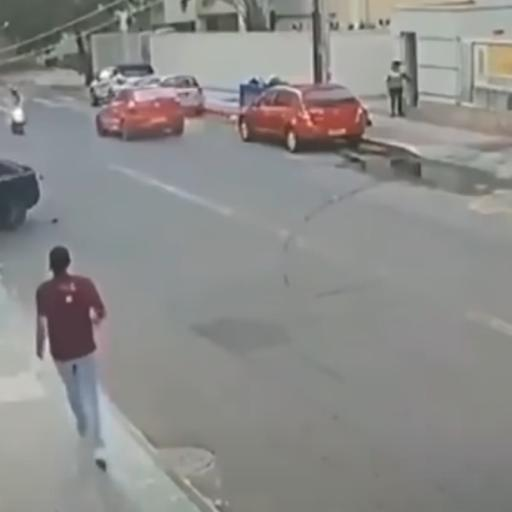Humans: (37, 233, 163, 473)
